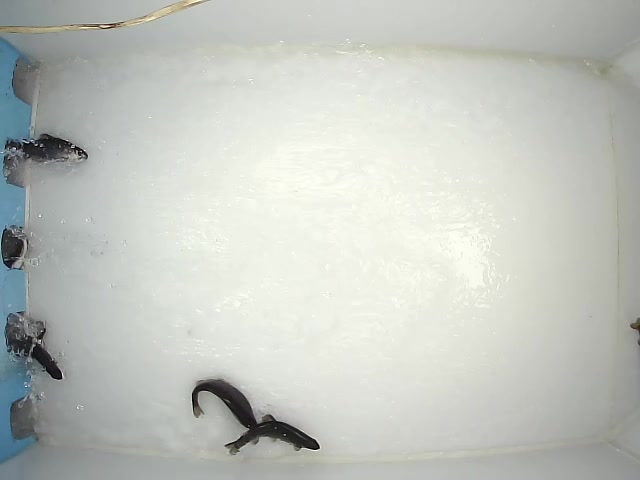fish: (222, 413, 321, 457), (191, 376, 259, 433), (4, 132, 89, 166), (7, 335, 63, 381)
